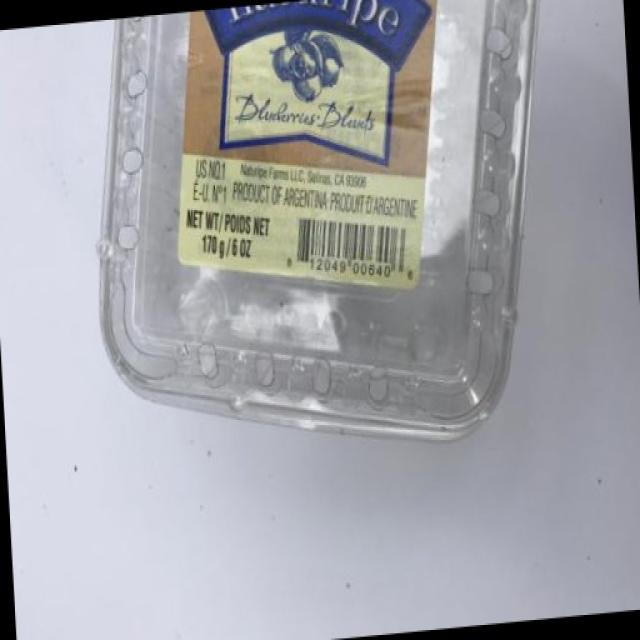plastico: (103, 17, 569, 491)
